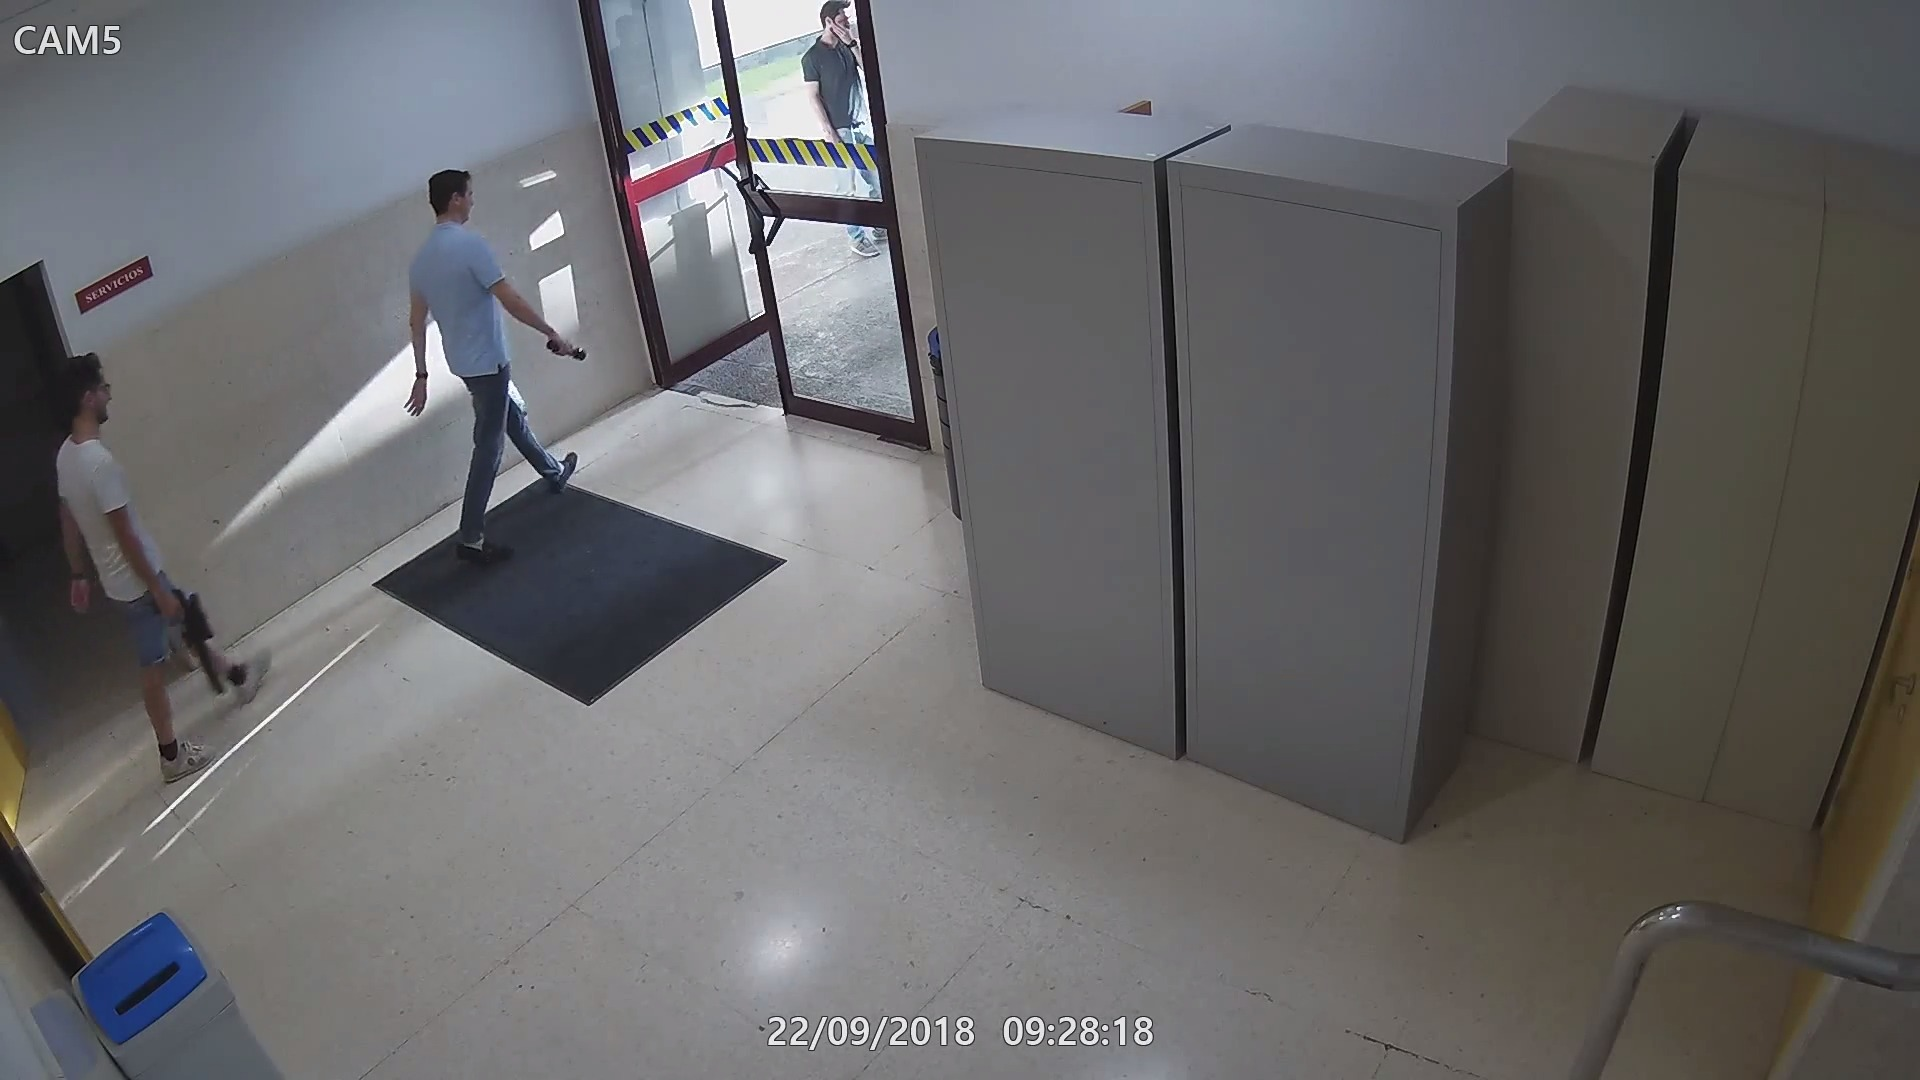Short_rifle: (145, 582, 236, 698)
